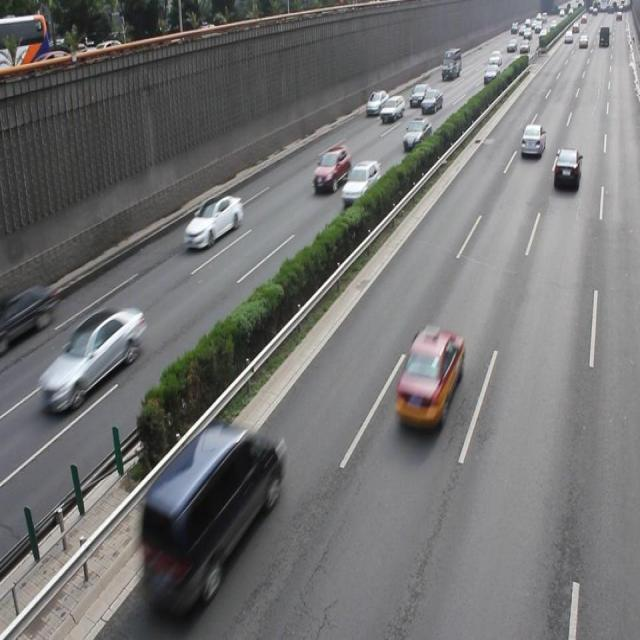car: (37, 304, 145, 412), (394, 326, 464, 429), (1, 276, 56, 340), (184, 192, 242, 250), (312, 145, 349, 194), (339, 160, 381, 201), (552, 147, 580, 190)
truck: (137, 423, 282, 596)
